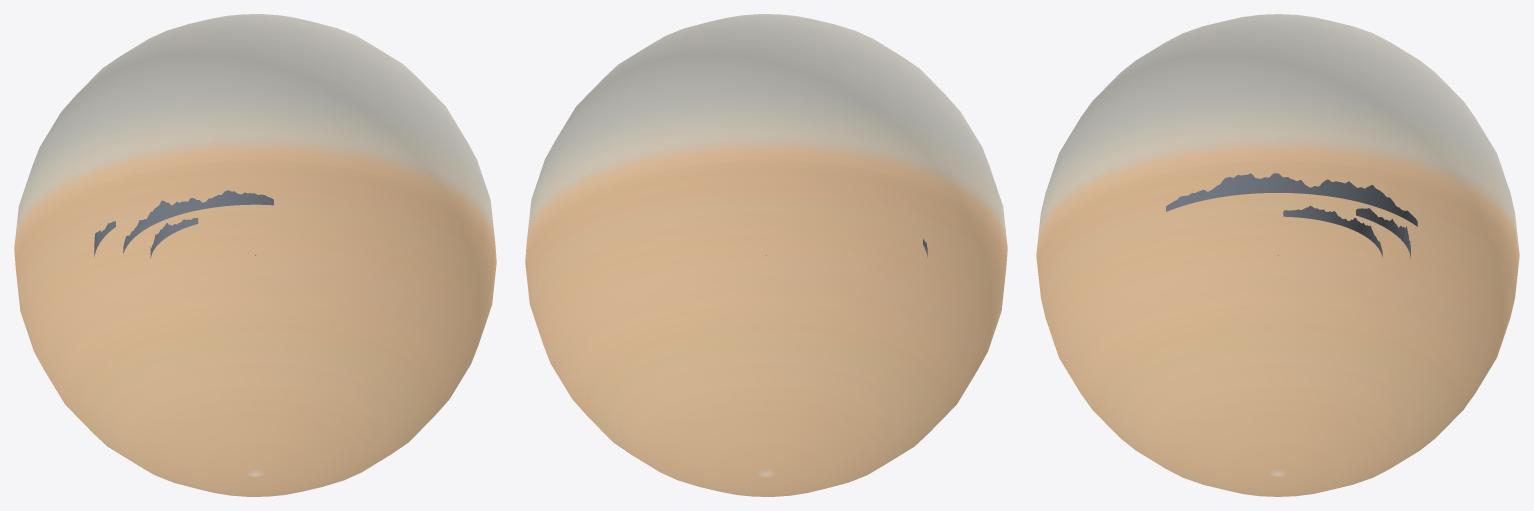
The model's file is env.glb.
3 renders of one model, left to right at view 1: azimuth 30°, elevation 25°; view 2: azimuth 150°, elevation 25°; view 3: azimuth 270°, elevation 25°, orthographic.
Parts seen in each view (by area): view 1: E1_Sky, E1_Ridge_B; view 2: E1_Sky; view 3: E1_Sky, E1_Ridge_C, E1_Ridge_A, E1_Ridge_B.
Boxes of the visible parts, x1,y1,x2,y2 form: E1_Sky: (14,14,496,496); E1_Ridge_B: (123,190,273,253); E1_Sky: (525,14,1007,496); E1_Sky: (1036,14,1519,496); E1_Ridge_C: (1166,173,1417,226); E1_Ridge_A: (1283,205,1382,257); E1_Ridge_B: (1356,208,1410,258).
Size of the model in its own units: 1.2e+07 by 1.2e+07 by 1.2e+07.
13 materials, 6 textured.
